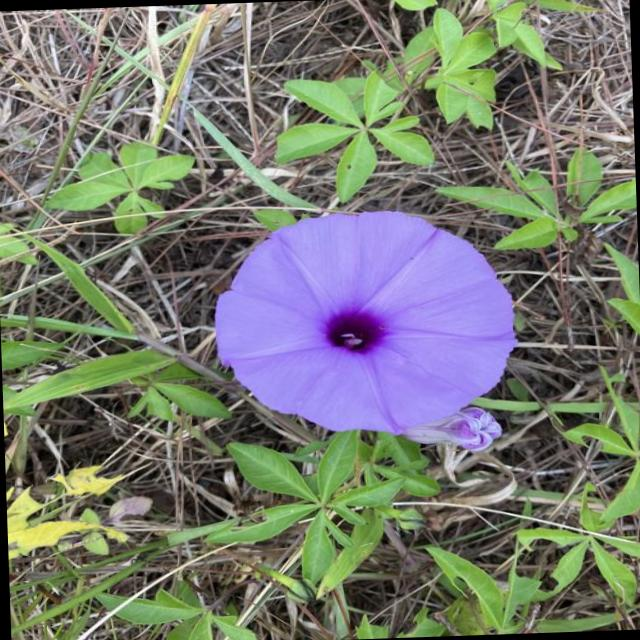ipomoea: (206, 202, 524, 444)
